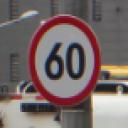speed_limit_60: (28, 14, 102, 106)
